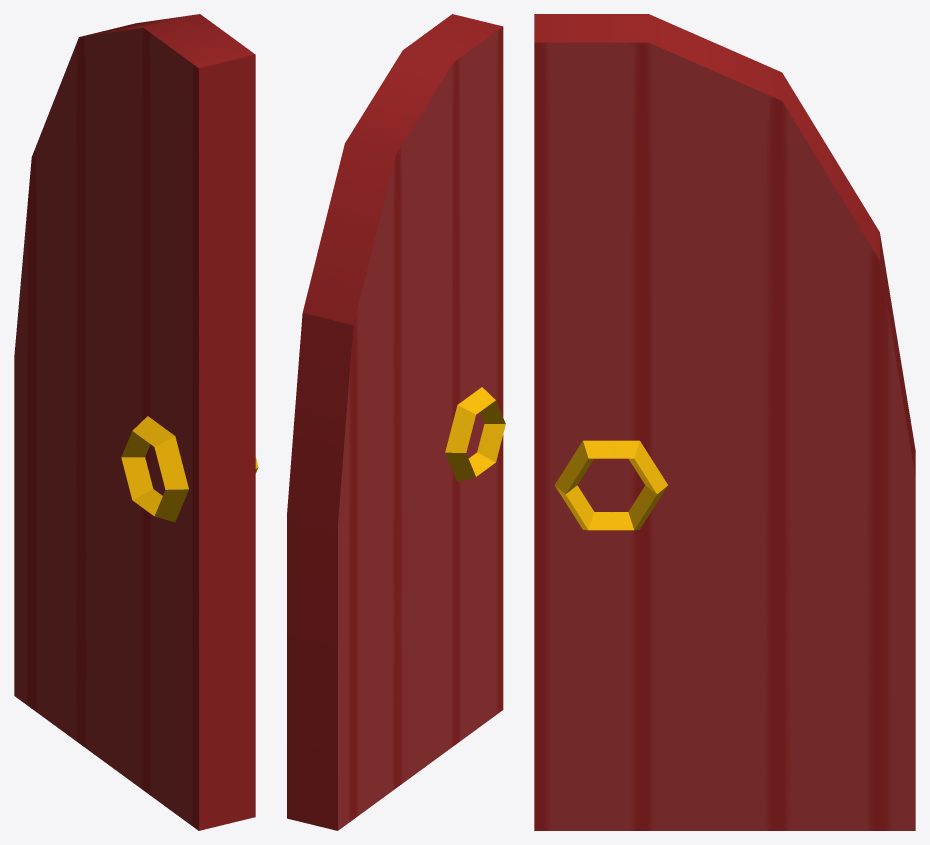
The model's file is doooor.fbx.
3 renders of one model, left to right at view 1: azimuth 30°, elevation 25°; view 2: azimuth 150°, elevation 25°; view 3: azimuth 270°, elevation 25°, orthographic. The views are drawn at different scales.
Visible parts, largest first — view 1: door; view 2: door; view 3: door.
Part boxes in pixels (x1,y1,x2,y2): door: (14, 14, 258, 830); door: (287, 14, 505, 830); door: (534, 14, 915, 830).
Bounding box in the file's own units: 0.4204 × 3.29 × 1.44.
